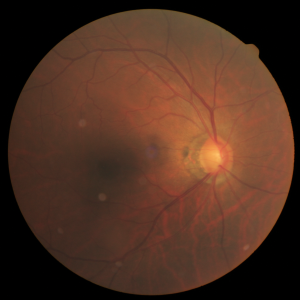glaucoma: (77, 99, 266, 214)
